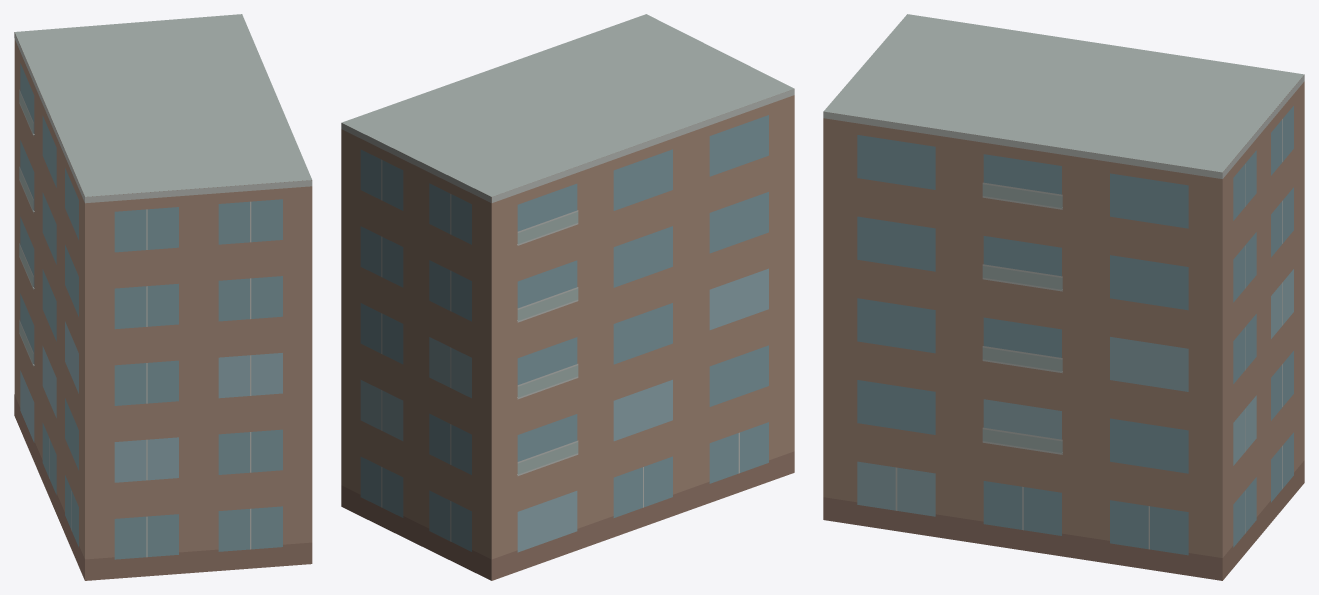
Rendered from survey-upis-32892707.glb.
3 renders of one model, left to right at view 1: azimuth 30°, elevation 25°; view 2: azimuth 150°, elevation 25°; view 3: azimuth 270°, elevation 25°, orthographic. The views are drawn at different scales.
Visible parts, largest first — view 1: survey-upis-32892707.tmp; view 2: survey-upis-32892707.tmp; view 3: survey-upis-32892707.tmp.
Part boxes in pixels (x1=…): survey-upis-32892707.tmp: x1=14, y1=14, x2=312, y2=580; survey-upis-32892707.tmp: x1=341, y1=14, x2=794, y2=580; survey-upis-32892707.tmp: x1=823, y1=14, x2=1304, y2=580.
Size of the model in its own units: 12.41 by 14.9 by 15.92.
